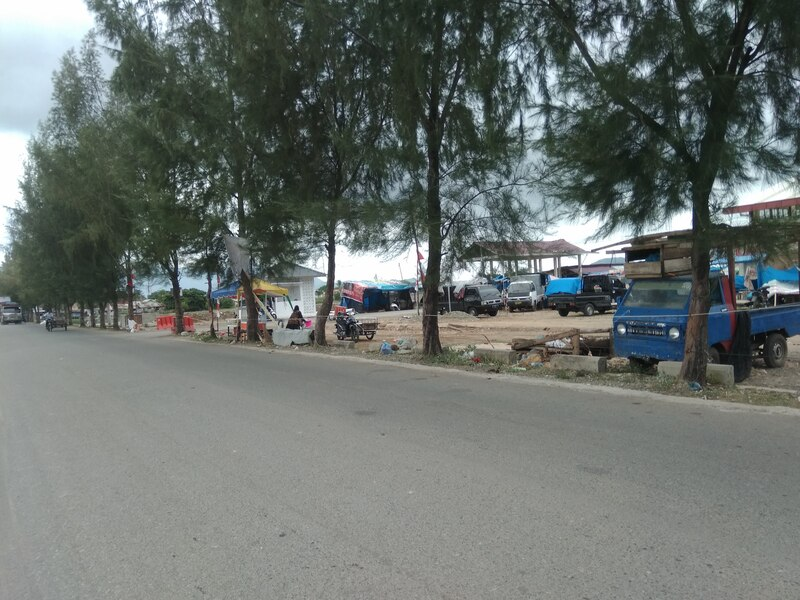becak barang: (333, 307, 385, 344), (43, 307, 75, 335)
